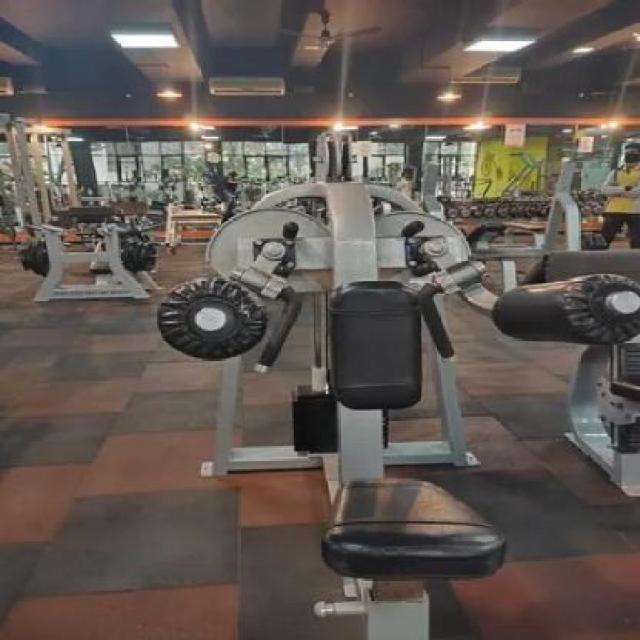lateral raises machine: (154, 220, 640, 640)
